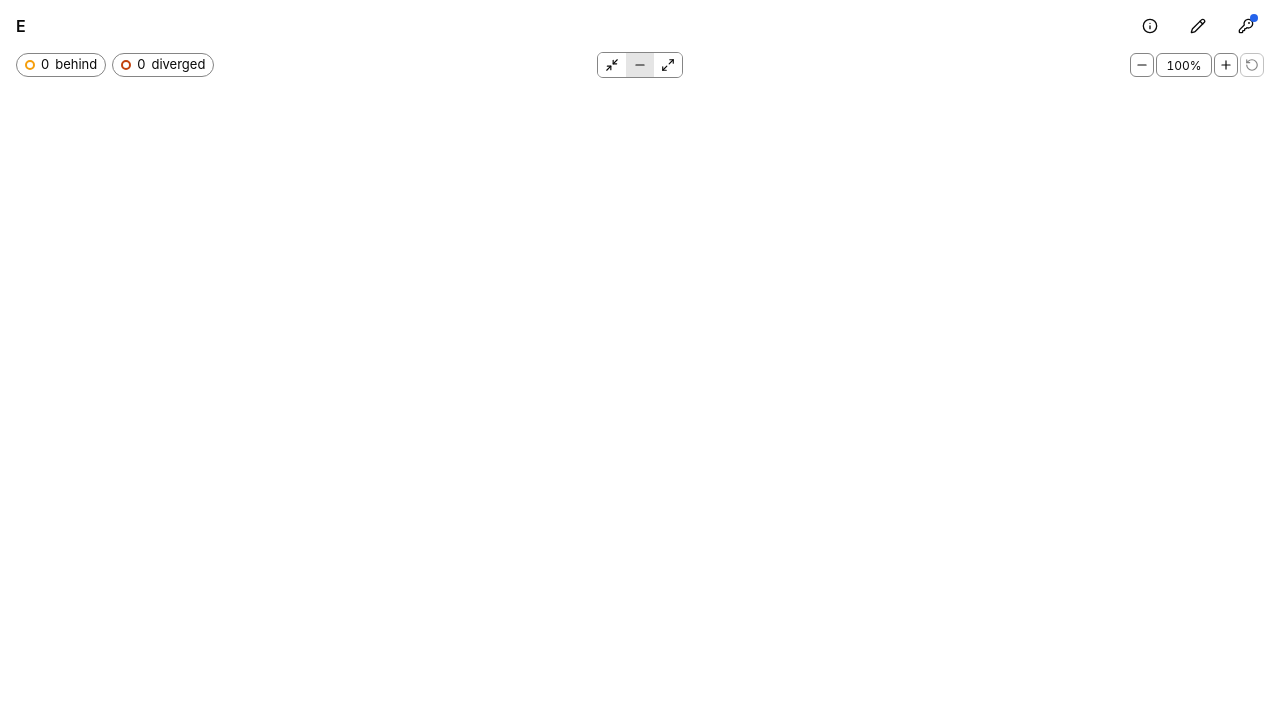
DashboardPage editor › opens at General from Edit
Click the button named "Edit dashboard": point(1198, 26) [1180,8,1216,44]
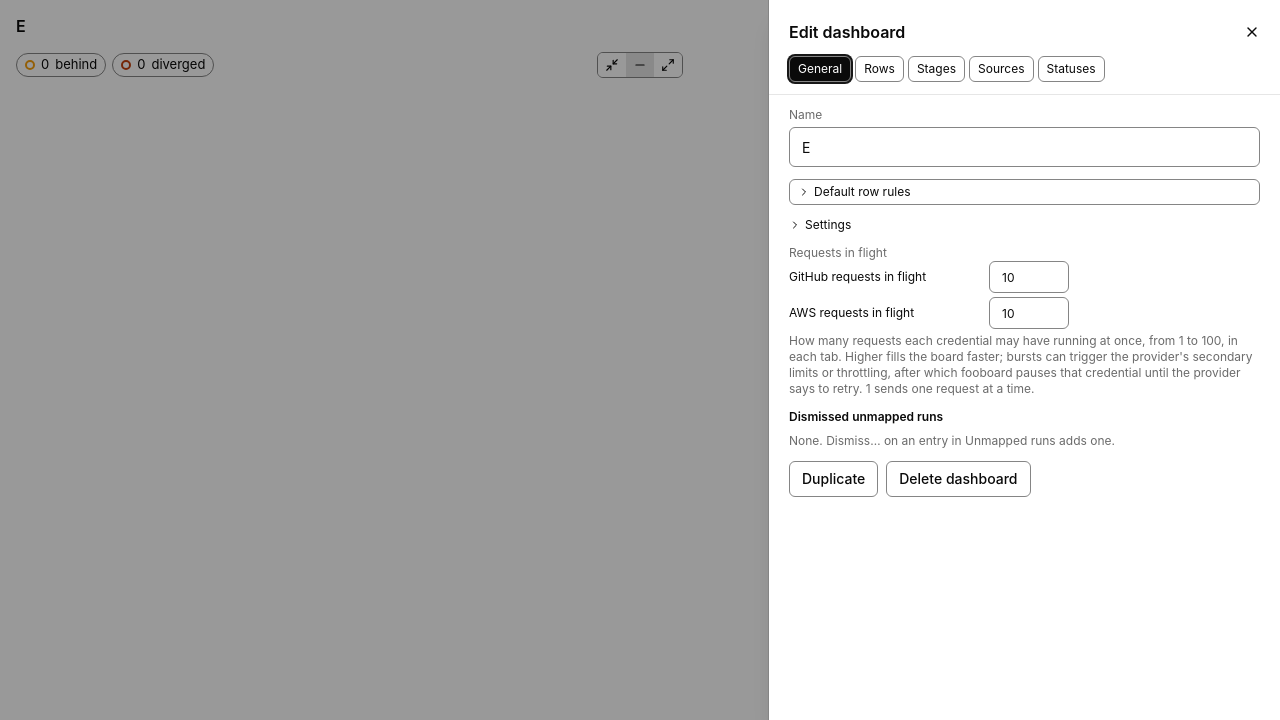
Result: the tab "General" is shown at [789,56,851,82]
